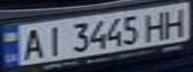3: (66, 19, 90, 53)
4: (87, 17, 112, 51), (106, 15, 127, 47)
5: (121, 12, 145, 46)
A: (15, 26, 48, 61)
H: (139, 9, 172, 42), (160, 6, 190, 39)
I: (39, 22, 69, 56)
